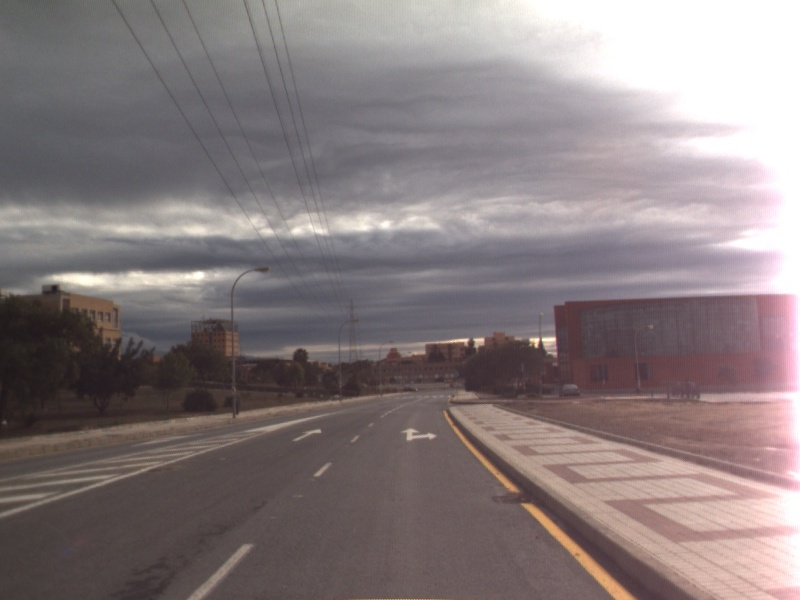STRAIGHT: (290, 427, 323, 443)
STRAIGHT_RIGHT: (399, 425, 440, 443)
